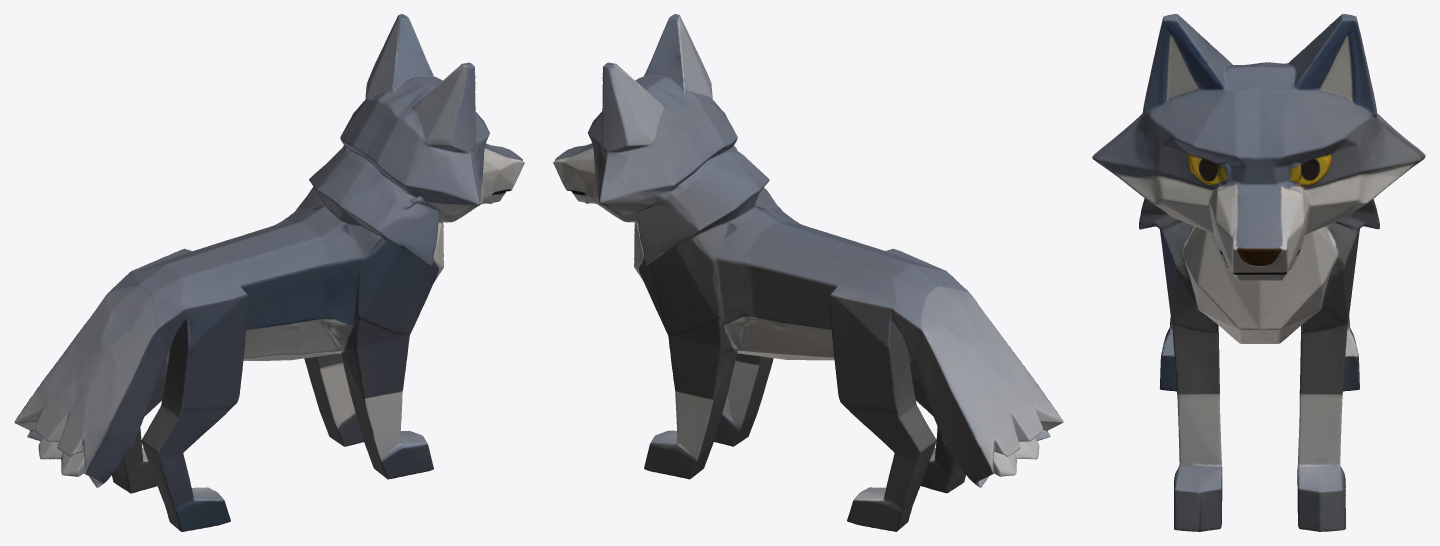
Rendered from wolf.glb.
The picture shows the model from 3 angles, left to right: view 1: azimuth 30°, elevation 25°; view 2: azimuth 150°, elevation 25°; view 3: azimuth 270°, elevation 25°; orthographic projection. The views are drawn at different scales.
Parts seen in each view (by area): view 1: tripo_node_be28b48c-6932-4038-831c-7d315bc2d2e4; view 2: tripo_node_be28b48c-6932-4038-831c-7d315bc2d2e4; view 3: tripo_node_be28b48c-6932-4038-831c-7d315bc2d2e4.
Boxes of the visible parts, x1,y1,x2,y2 form: tripo_node_be28b48c-6932-4038-831c-7d315bc2d2e4: [14, 14, 524, 531]; tripo_node_be28b48c-6932-4038-831c-7d315bc2d2e4: [553, 14, 1063, 531]; tripo_node_be28b48c-6932-4038-831c-7d315bc2d2e4: [1092, 14, 1425, 531].
Size of the model in its own units: 1 by 0.8162 by 0.4588.
Materials: 1 (1 with a texture image).
